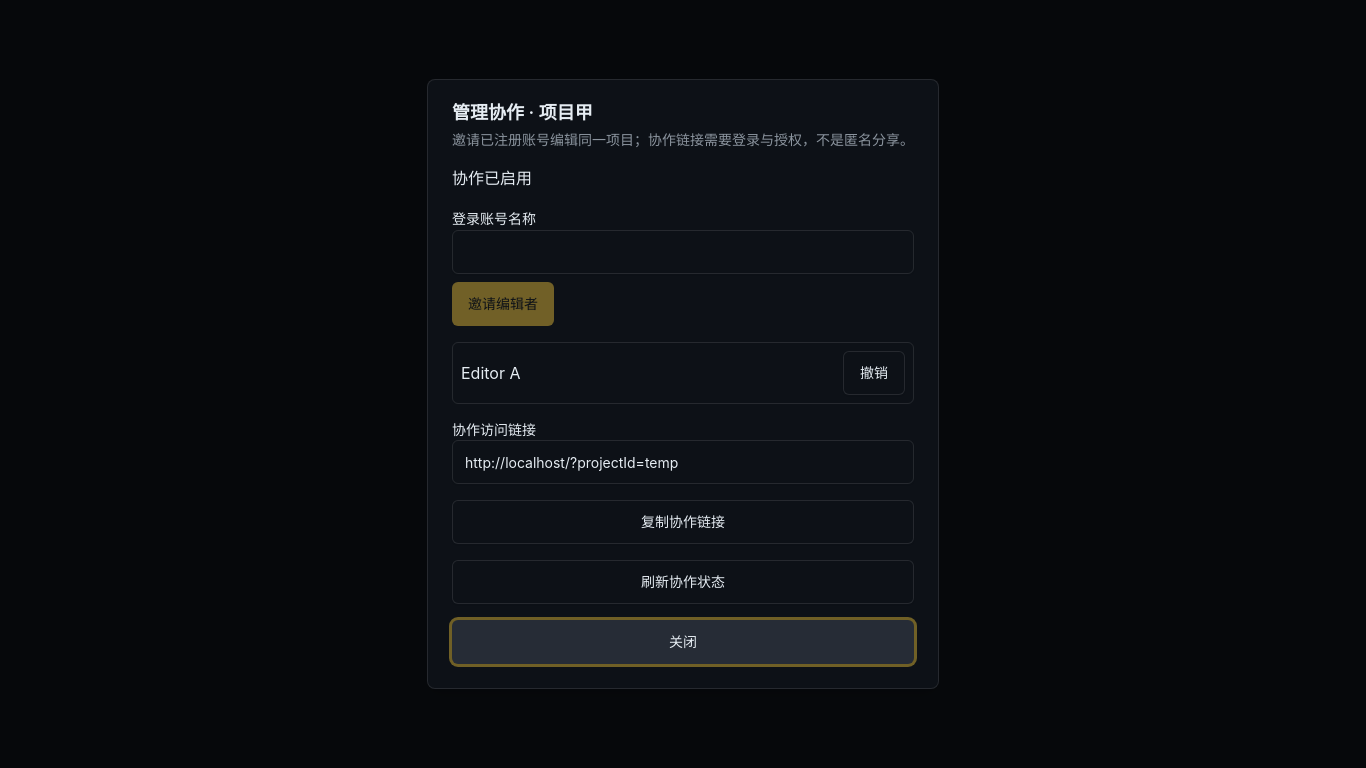
Test: real collaboration management controls › invites by account name and revokes the chosen editor
Expected: the text "Editor A" is shown, [461, 361, 520, 385]
Type "Editor B" into the field labelled "登录账号名称" at (683, 252), box [452, 230, 914, 274]
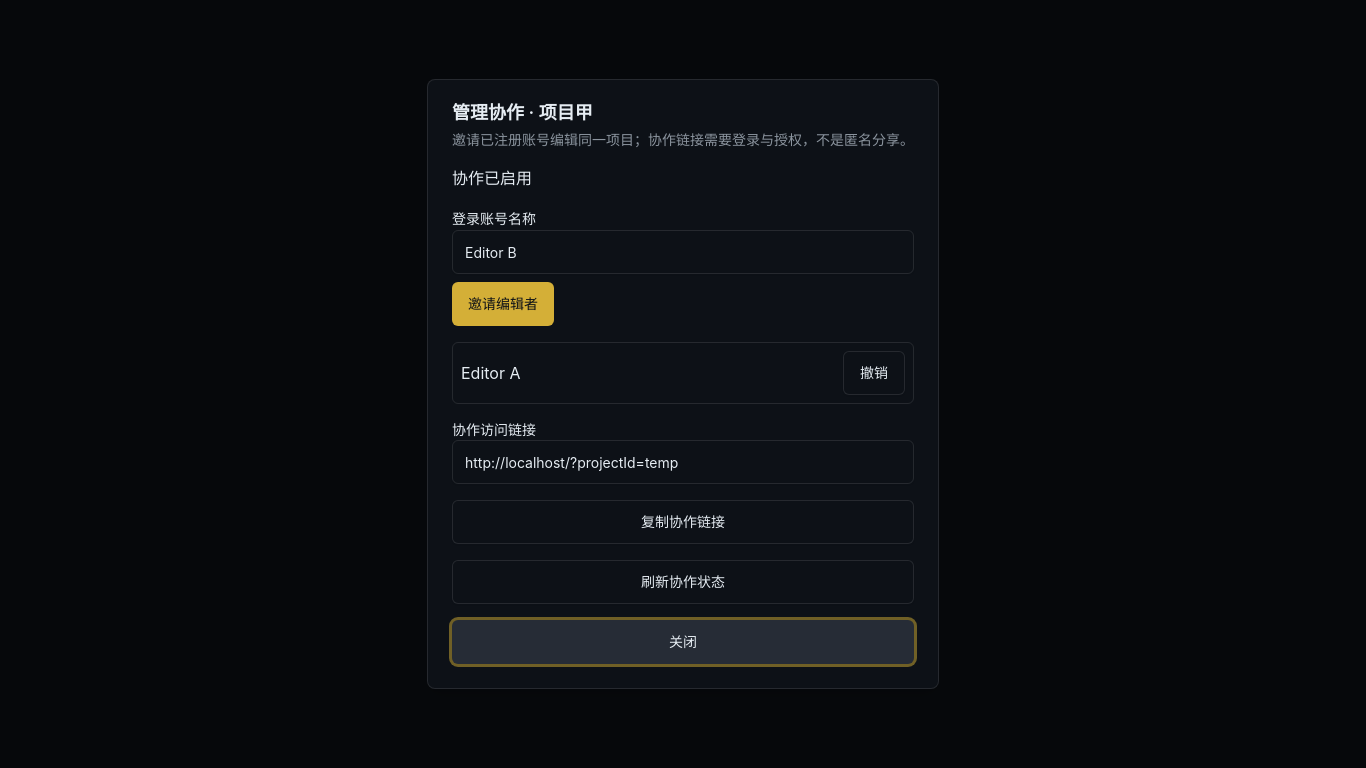
Click the button "邀请编辑者" at (503, 304), box [452, 282, 554, 326]
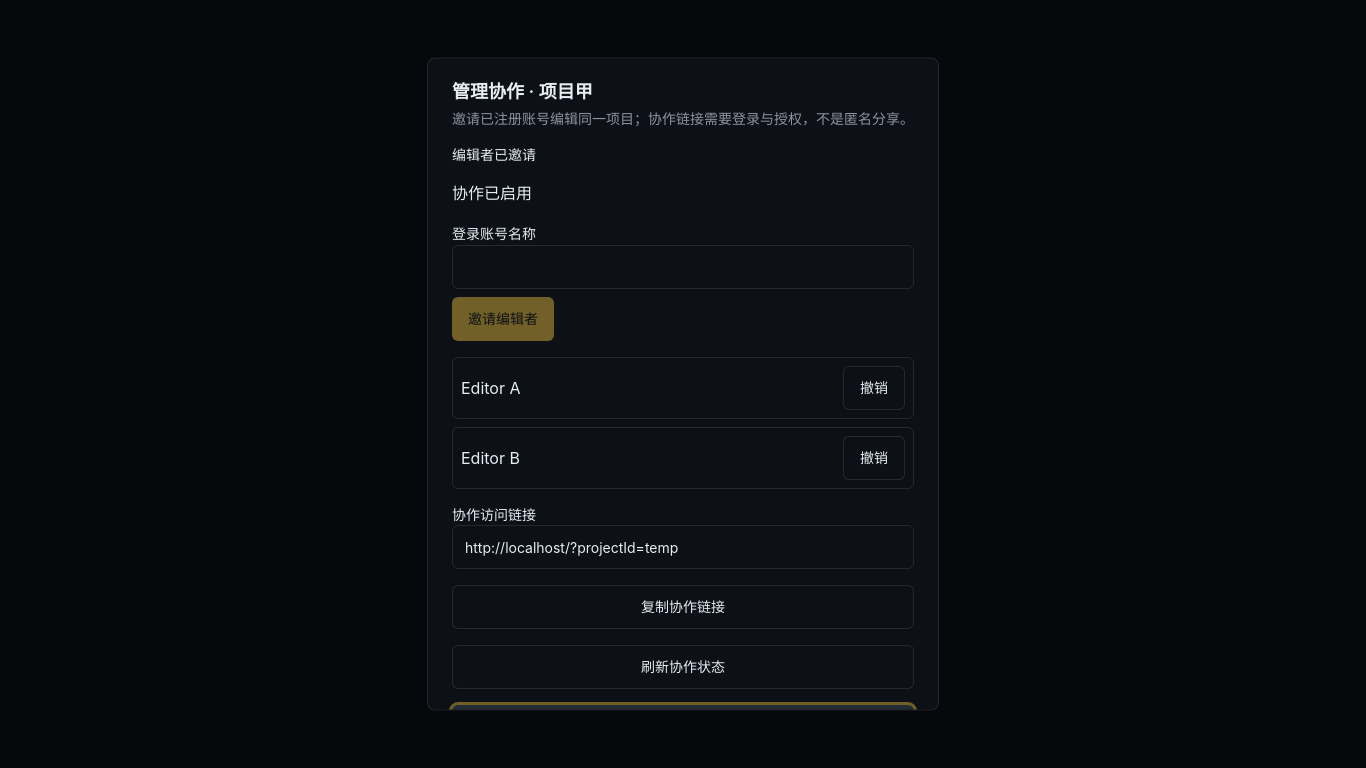
Expected: the text "Editor B" is shown, [461, 446, 520, 470]
Click the button with aria-label "撤销 Editor A 的编辑权限" at (874, 388), box [843, 366, 905, 410]
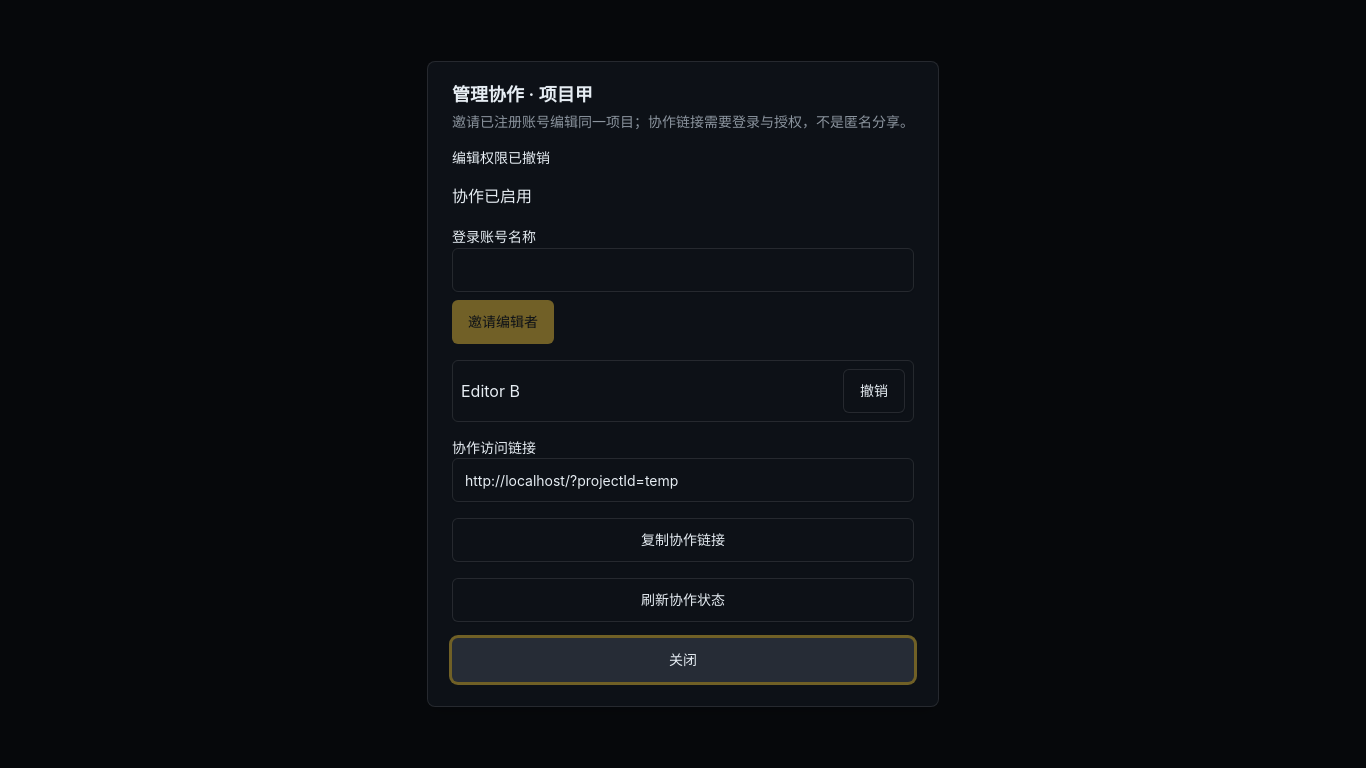
Expected: the text "Editor A" is gone
